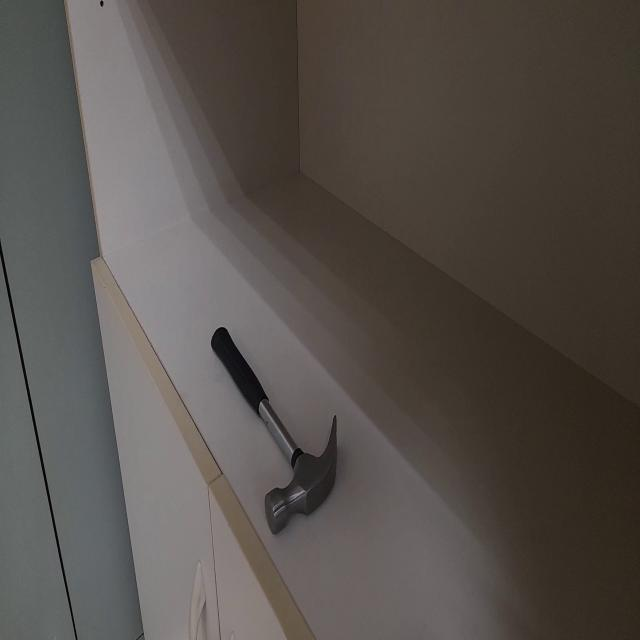hammer: (211, 327, 336, 535)
